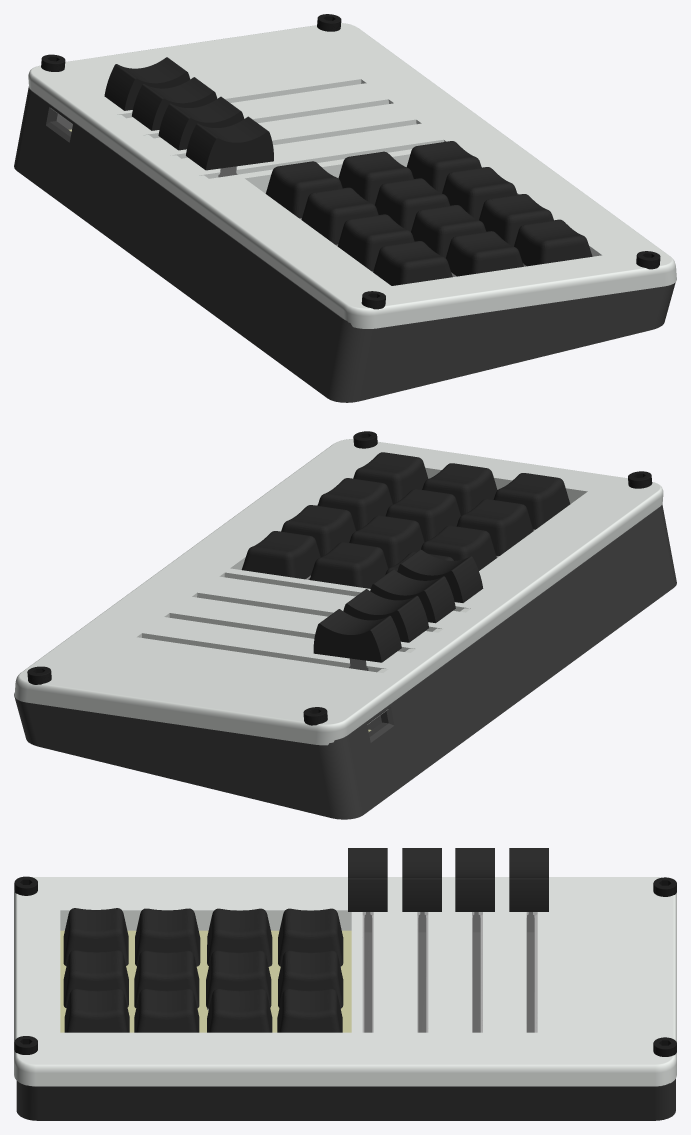
Rendered from axionpad.glb.
The picture shows the model from 3 angles, top to bottom: view 1: azimuth 30°, elevation 25°; view 2: azimuth 150°, elevation 25°; view 3: azimuth 270°, elevation 25°; orthographic projection.
Parts seen in each view (by area): view 1: box_top, box_bottom, faderknob_1, keycaps_1, keycaps_9, keycaps_5, keycaps_11, keycaps_12, keycaps_10, faderknob_2, faderknob_4, keycaps_7 (+6 smaller); view 2: box_top, box_bottom, faderknob_4, keycaps_4, keycaps_8, keycaps_10, keycaps_9, faderknob_1, faderknob_3, faderknob_2, keycaps_6, keycaps_7 (+5 smaller); view 3: box_top, box_bottom, PCB_MAIN, keycaps_10, keycaps_9, keycaps_11, keycaps_12, keycaps_1, keycaps_2, keycaps_3, keycaps_4, keycaps_5 (+10 smaller).
Part boxes in pixels (x1,y1,x2,y2): box_top: (28,23,676,328); box_bottom: (14,86,675,402); faderknob_1: (186,116,273,170); keycaps_1: (514,219,592,266); keycaps_9: (373,241,452,285); keycaps_5: (446,231,523,276); keycaps_11: (301,187,378,244); keycaps_12: (265,161,342,218); keycaps_10: (337,214,414,271); faderknob_2: (158,96,244,150); faderknob_4: (104,57,190,110); keycaps_7: (375,178,449,231); box_top: (14,439,663,745); box_bottom: (14,505,676,819); faderknob_4: (313,609,401,662); keycaps_4: (241,531,320,579); keycaps_8: (309,542,388,588); keycaps_10: (456,499,533,555); keycaps_9: (493,473,570,529); faderknob_1: (397,549,483,602); faderknob_3: (343,589,428,642); faderknob_2: (370,569,455,623); keycaps_6: (385,489,460,541); keycaps_7: (349,515,424,568); box_top: (14,877,676,1086); box_bottom: (16,1079,675,1120); PCB_MAIN: (60,912,537,1032); keycaps_10: (135,908,200,966); keycaps_9: (63,908,128,965); keycaps_11: (207,908,272,966); keycaps_12: (278,908,343,966); keycaps_1: (64,989,129,1032); keycaps_2: (134,989,199,1032); keycaps_3: (207,989,272,1032); keycaps_4: (277,989,342,1032); keycaps_5: (63,950,128,1007).
Size of the model in its own units: 0.11 by 0.042 by 0.184.
